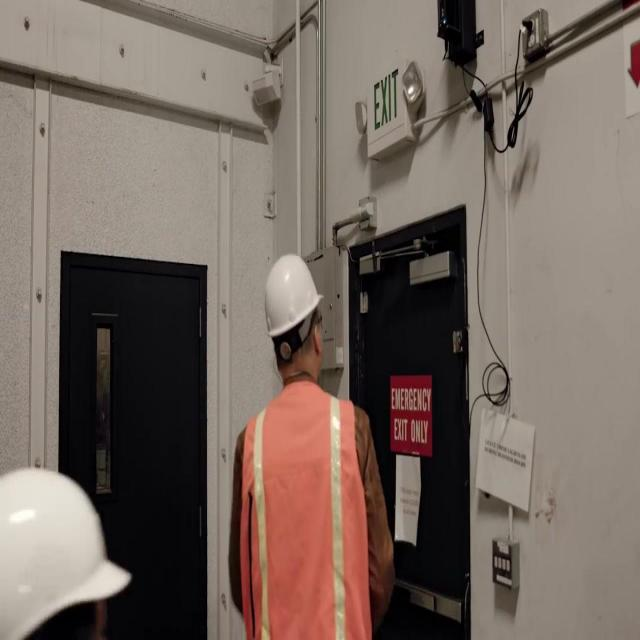vest: (241, 377, 373, 639)
